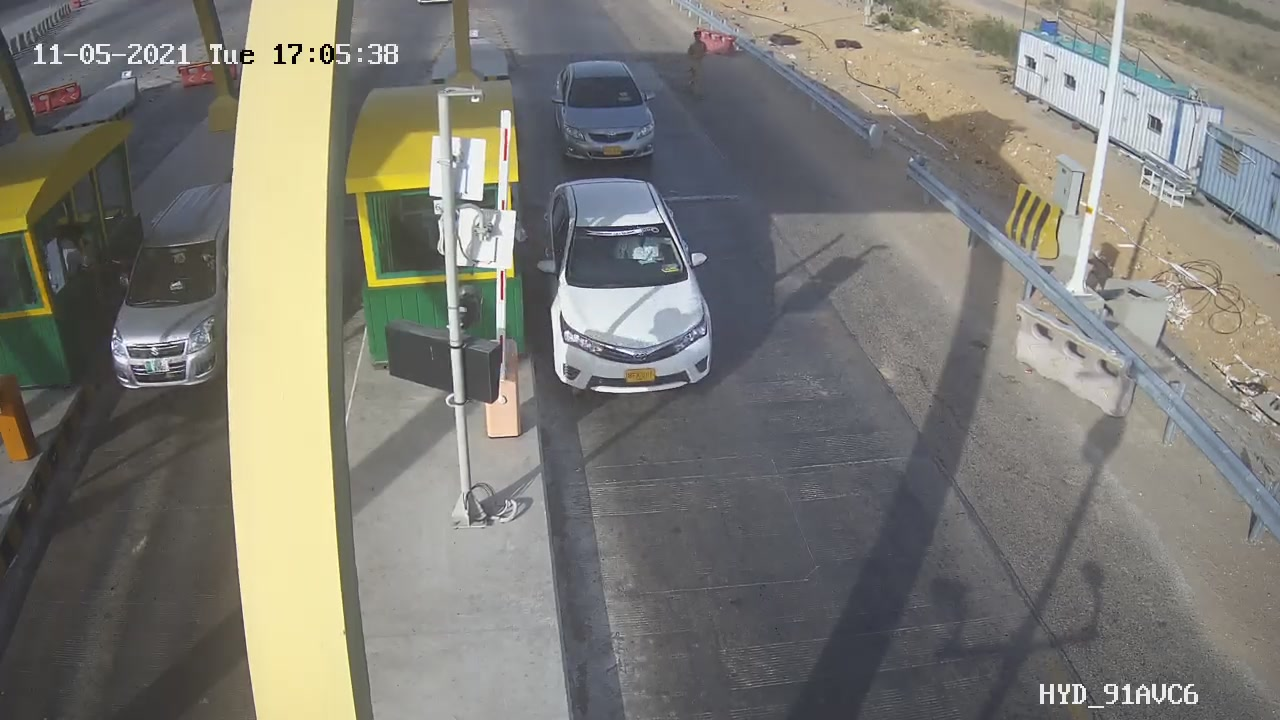F1: (520, 166, 740, 414), (537, 49, 672, 175)
